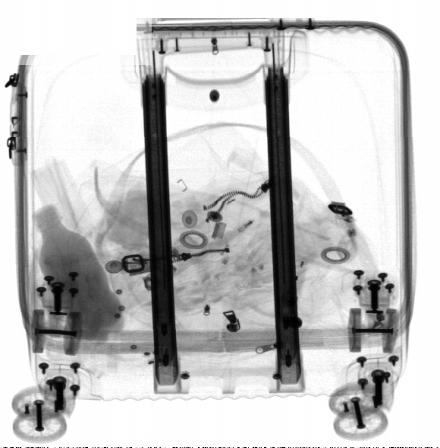Lighter: (277, 249, 309, 331)
